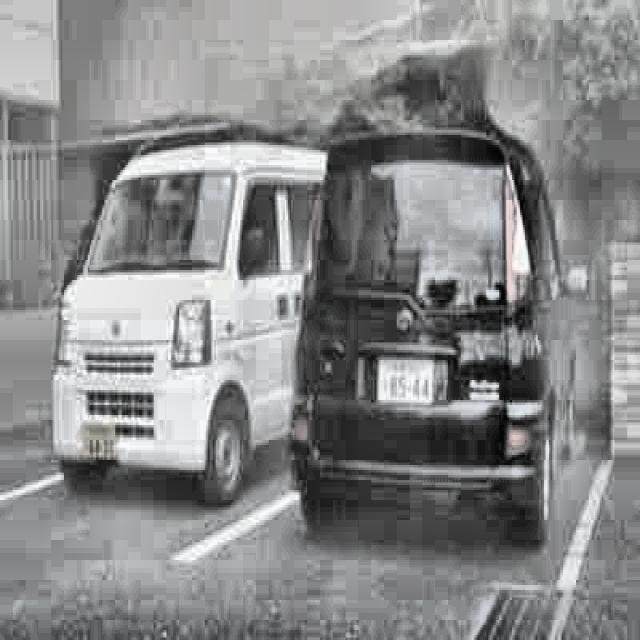license_plate: (378, 360, 435, 407), (83, 426, 118, 462)
